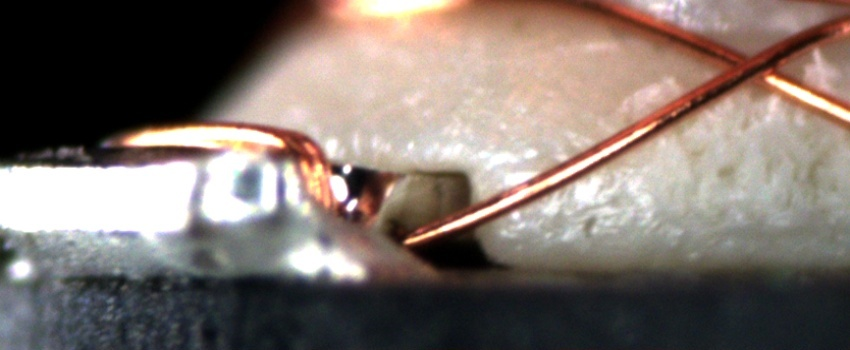CL: (710, 36, 801, 92)
DL: (493, 154, 556, 191)
TE: (121, 110, 346, 229)
